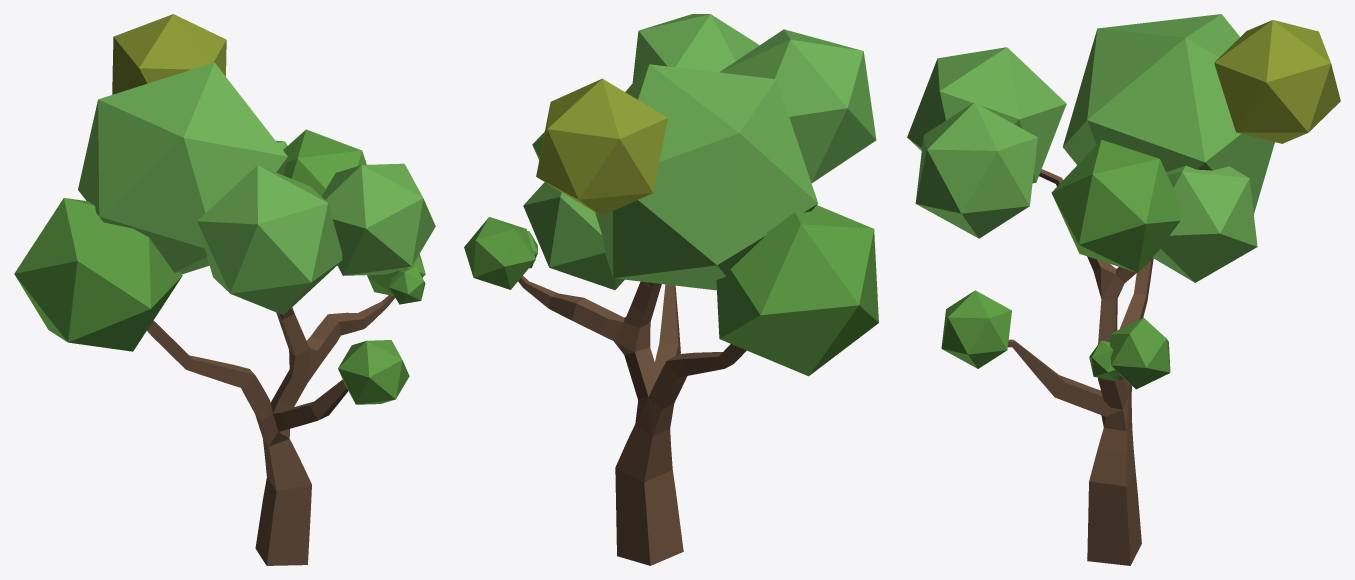
The model's file is ico_tree2.glb.
3 renders of one model, left to right at view 1: azimuth 30°, elevation 25°; view 2: azimuth 150°, elevation 25°; view 3: azimuth 270°, elevation 25°, orthographic. The views are drawn at different scales.
Visible parts, largest first — view 1: Icosphere.010, Icosphere.009, Cube.002, Icosphere.013, Icosphere.014, Icosphere.011, Icosphere.015, Icosphere.012, Icosphere.017, Icosphere.016; view 2: Icosphere.010, Icosphere.009, Cube.002, Icosphere.011, Icosphere.013, Icosphere, Icosphere.014, Icosphere.016; view 3: Icosphere.010, Cube.002, Icosphere.014, Icosphere.012, Icosphere.011, Icosphere.013, Icosphere, Icosphere.015, Icosphere.016, Icosphere.017.
Part boxes in pixels (box(x1,y1,x2,y2)): Icosphere.010: box(78, 62, 287, 274); Icosphere.009: box(14, 198, 182, 351); Cube.002: box(147, 295, 395, 565); Icosphere.013: box(197, 165, 342, 314); Icosphere.014: box(321, 163, 435, 275); Icosphere.011: box(112, 14, 226, 94); Icosphere.015: box(338, 340, 409, 404); Icosphere.012: box(283, 129, 366, 196); Icosphere.017: box(389, 266, 425, 304); Icosphere.016: box(367, 254, 425, 295); Icosphere.010: box(595, 64, 818, 290); Icosphere.009: box(716, 205, 878, 376); Cube.002: box(518, 276, 746, 565); Icosphere.011: box(536, 78, 667, 215); Icosphere.013: box(719, 29, 876, 183); Icosphere: box(523, 182, 624, 289); Icosphere.014: box(632, 14, 759, 82); Icosphere.016: box(464, 217, 535, 289); Icosphere.010: box(1063, 14, 1274, 214); Cube.002: box(1008, 169, 1153, 565); Icosphere.014: box(915, 102, 1037, 238); Icosphere.012: box(1051, 139, 1180, 272); Icosphere.011: box(1214, 20, 1340, 143); Icosphere.013: box(907, 47, 1066, 183); Icosphere: box(1152, 165, 1257, 282); Icosphere.015: box(941, 290, 1011, 368); Icosphere.016: box(1109, 317, 1170, 389); Icosphere.017: box(1089, 340, 1119, 381).
Size of the model in its own units: 8.94 by 11.1 by 8.43.
